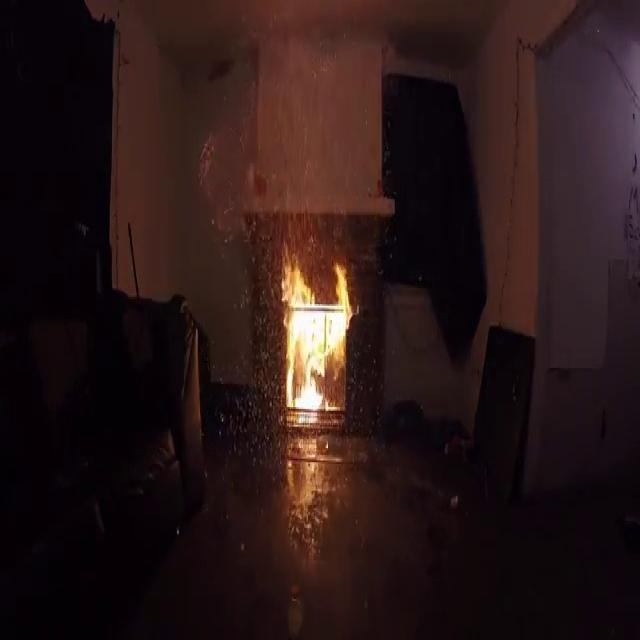fire: (280, 248, 360, 446)
